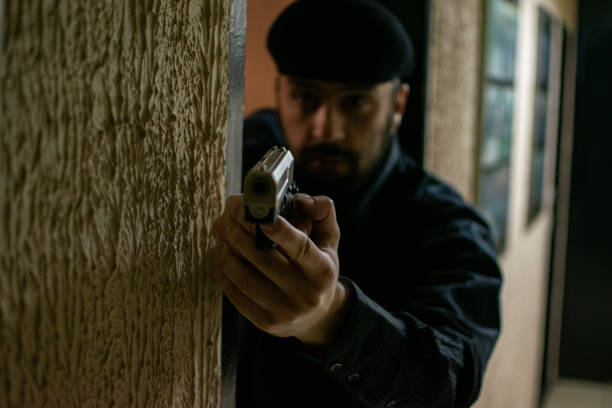gun: (242, 145, 297, 256)
